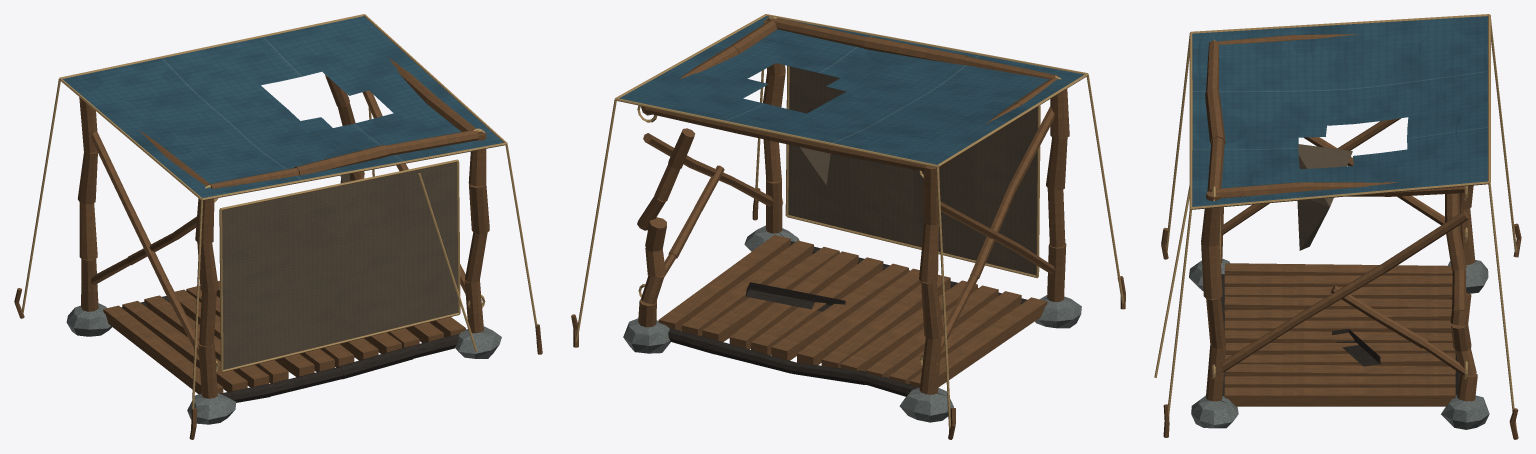
The model's file is cs-004_shelter_damaged.obj.
The picture shows the model from 3 angles, left to right: view 1: azimuth 30°, elevation 25°; view 2: azimuth 150°, elevation 25°; view 3: azimuth 270°, elevation 25°; orthographic projection. The views are drawn at different scales.
Parts seen in each view (by area): view 1: cs-004_shelter_damaged; view 2: cs-004_shelter_damaged; view 3: cs-004_shelter_damaged.
Part boxes in pixels (<box>): cs-004_shelter_damaged: <box>14,14,542,439</box>; cs-004_shelter_damaged: <box>571,14,1125,439</box>; cs-004_shelter_damaged: <box>1154,14,1521,439</box>.
Size of the model in its own units: 2.49 by 1.65 by 2.07.
Materials: 6 (6 with a texture image).
